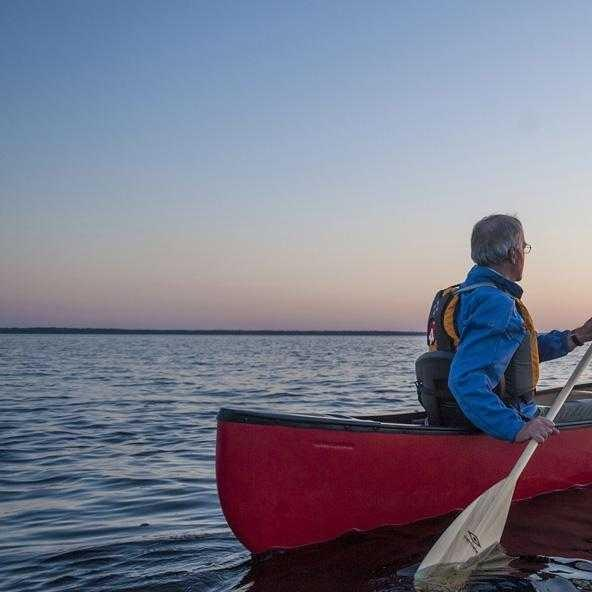kayak: (214, 384, 591, 559)
